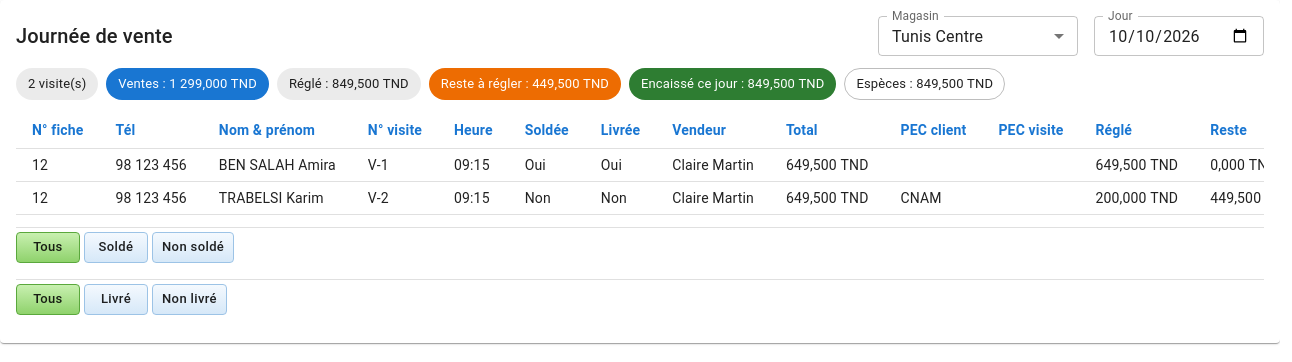
it: affiche les totaux de la journée et filtre les visites non soldées
Expected: the text "BEN SALAH Amira" is shown, [203,149,352,182]
Expected: the text "Reste à régler : 449,500 TND" is shown, [429,74,621,94]
Click the button "Non soldé": x=193, y=247 [152,232,234,263]
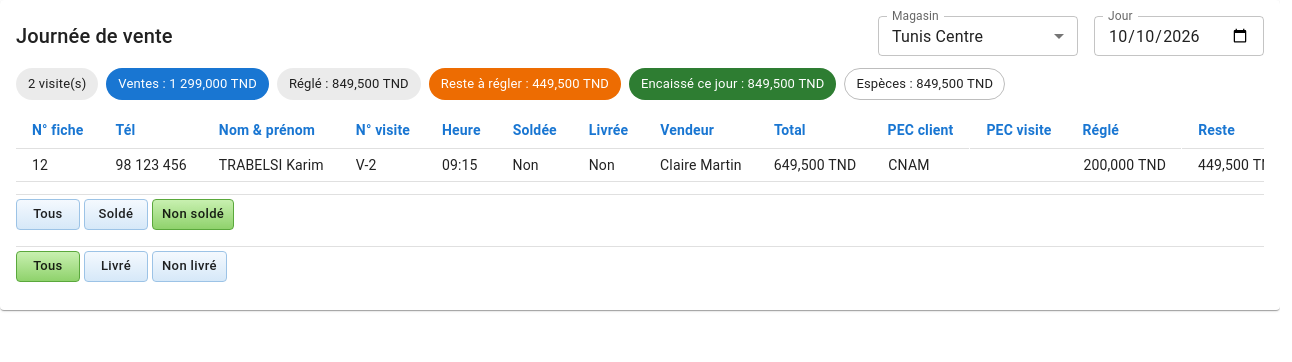
Expected: the text "TRABELSI Karim" is shown, [203,149,340,182]
Now the text "BEN SALAH Amira" is gone
